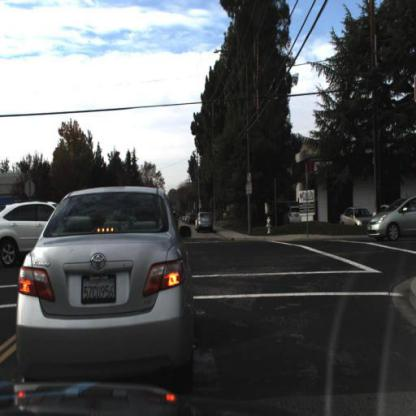car: (15, 186, 195, 388), (0, 200, 62, 272), (368, 196, 416, 243), (339, 203, 374, 230), (281, 200, 306, 228), (193, 206, 215, 236)
